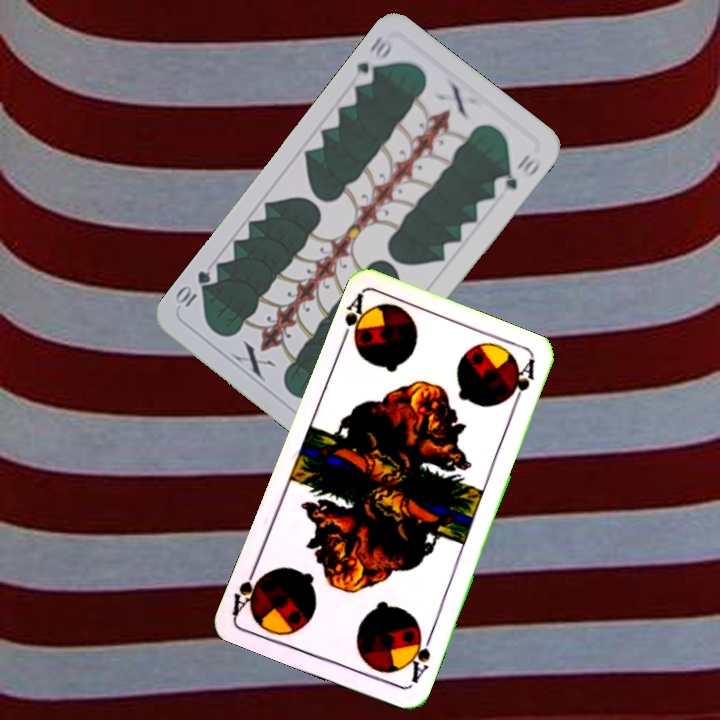G10: (349, 31, 397, 89)
SA: (336, 290, 374, 351), (402, 627, 435, 686)
